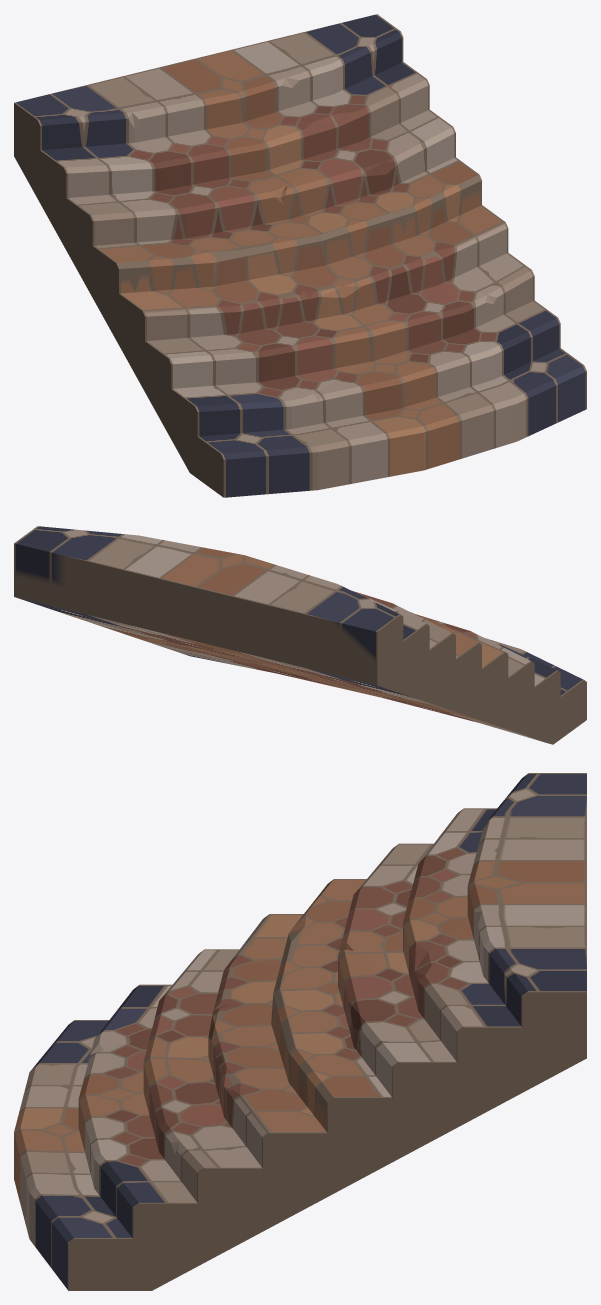
File: SM_Bld_Stairs_02.fbx
3 renders of one model, top to bottom at view 1: azimuth 30°, elevation 25°; view 2: azimuth 150°, elevation 25°; view 3: azimuth 270°, elevation 25°, orthographic. The views are drawn at different scales.
Visible parts, largest first — view 1: SM_Bld_Stairs_02; view 2: SM_Bld_Stairs_02; view 3: SM_Bld_Stairs_02.
Boxes of the visible parts, left/top/right/bottom form: SM_Bld_Stairs_02: left=14, top=14, right=586, bottom=497; SM_Bld_Stairs_02: left=14, top=526, right=586, bottom=744; SM_Bld_Stairs_02: left=14, top=773, right=586, bottom=1290.
Bounding box in the file's own units: 250 × 159 × 276.
